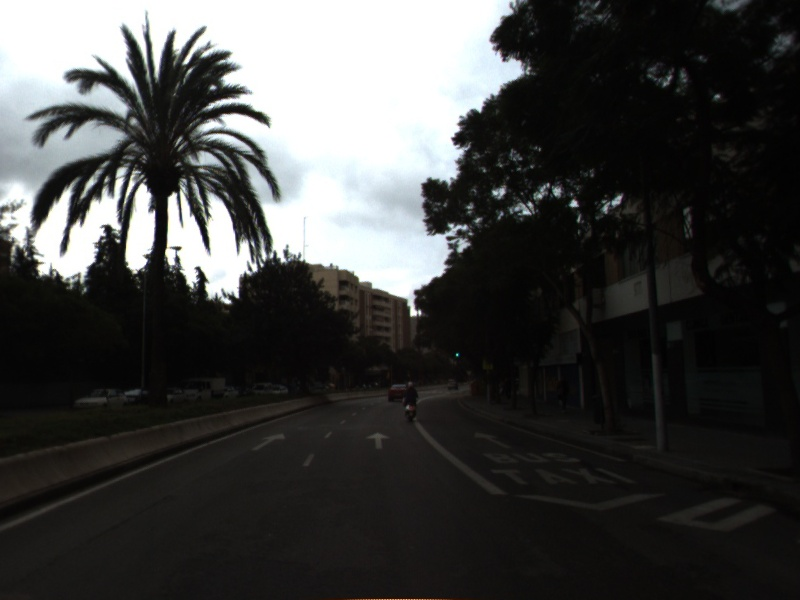STRAIGHT: (472, 430, 513, 450), (249, 431, 287, 452), (364, 430, 392, 451)
